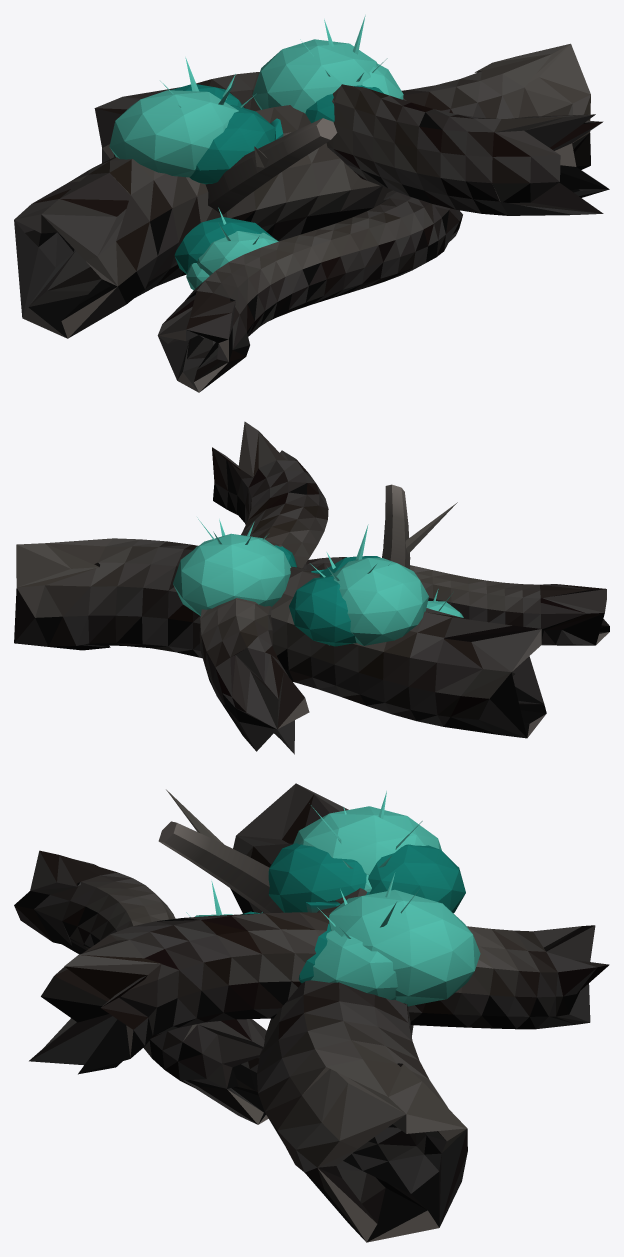
The model's file is pohon_tumbang_logjam_swamp_94696.glb.
The picture shows the model from 3 angles, top to bottom: view 1: azimuth 30°, elevation 25°; view 2: azimuth 150°, elevation 25°; view 3: azimuth 270°, elevation 25°; orthographic projection. The views are drawn at different scales.
Visible parts, largest first — view 1: Tumpukan_Kayu_Hanyut; view 2: Tumpukan_Kayu_Hanyut; view 3: Tumpukan_Kayu_Hanyut.
Boxes of the visible parts, x1,y1,x2,y2 form: Tumpukan_Kayu_Hanyut: (14, 15, 609, 392); Tumpukan_Kayu_Hanyut: (14, 421, 609, 754); Tumpukan_Kayu_Hanyut: (14, 783, 609, 1242).
Size of the model in its own units: 4.56 by 1.51 by 3.51.
